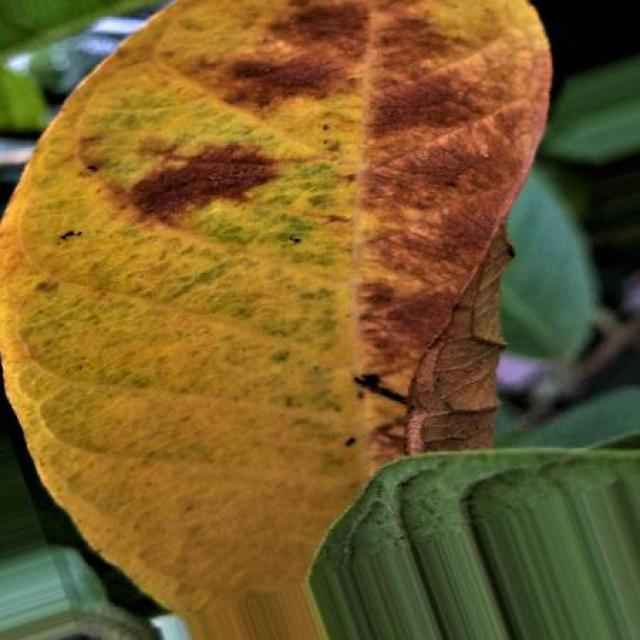Red Rust: (0, 1, 550, 640)
